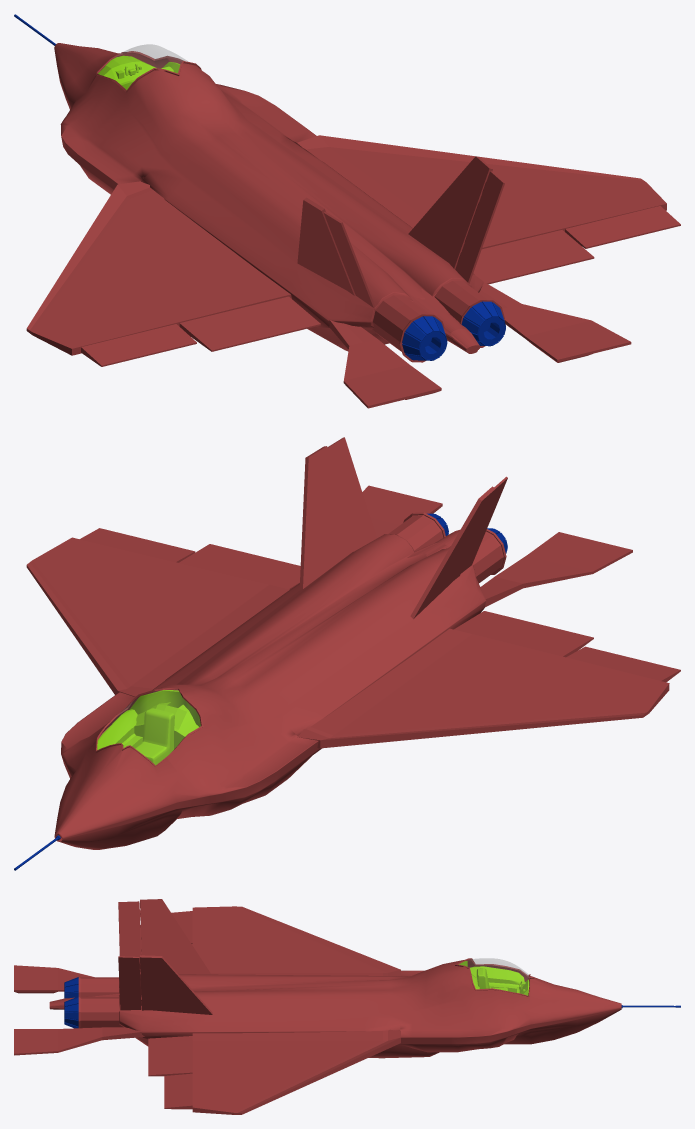
File: KaanAirplaneSepereted.fbx
3 views of the same model, one above another, from view 1: azimuth 30°, elevation 25°; view 2: azimuth 150°, elevation 25°; view 3: azimuth 270°, elevation 25° (orthographic). The views are drawn at different scales.
Parts seen in each view (by area): view 1: polySurface10, L_wing, R_wing, L_BackDecor, R_BackDecor, L_Dy_Wing1, R_Backwing, R_Dy_Wing1, L_Backwing, L_Dy_Wing2, R_Dy_Wing2, R_Dy_Backwing (+8 smaller); view 2: polySurface10, L_wing, R_wing, R_Backwing, L_BackDecor, polySurface9, L_Dy_Wing1, R_Dy_Wing1, L_Backwing, R_Dy_Backwing, R_BackDecor, L_Dy_Wing2 (+8 smaller); view 3: polySurface10, R_wing, L_wing, L_Backwing, R_Backwing, R_BackDecor, R_Dy_Wing1, polySurface9, L_BackDecor, pCylinder2, L_Dy_Backwing, R_Dy_Backwing (+5 smaller).
Boxes of the visible parts, x1=… form: polySurface10: x1=54, y1=43, x2=483, y2=351; L_wing: x1=26, y1=181, x2=291, y2=355; R_wing: x1=297, y1=135, x2=666, y2=249; L_BackDecor: x1=329, y1=320, x2=441, y2=408; R_BackDecor: x1=479, y1=282, x2=631, y2=362; L_Dy_Wing1: x1=179, y1=296, x2=320, y2=351; R_Backwing: x1=408, y1=156, x2=492, y2=268; R_Dy_Wing1: x1=473, y1=230, x2=594, y2=284; L_Backwing: x1=297, y1=197, x2=355, y2=295; L_Dy_Wing2: x1=81, y1=324, x2=196, y2=366; R_Dy_Wing2: x1=565, y1=206, x2=680, y2=248; R_Dy_Backwing: x1=455, y1=171, x2=504, y2=283; polySurface10: x1=54, y1=534, x2=486, y2=849; L_wing: x1=297, y1=628, x2=669, y2=748; R_wing: x1=26, y1=537, x2=289, y2=696; R_Backwing: x1=299, y1=446, x2=359, y2=590; L_BackDecor: x1=480, y1=532, x2=632, y2=607; polySurface9: x1=98, y1=690, x2=200, y2=764; L_Dy_Wing1: x1=454, y1=611, x2=593, y2=657; R_Dy_Wing1: x1=179, y1=544, x2=300, y2=589; L_Backwing: x1=410, y1=486, x2=495, y2=618; R_Dy_Backwing: x1=327, y1=437, x2=376, y2=548; R_BackDecor: x1=362, y1=485, x2=442, y2=538; L_Dy_Wing2: x1=566, y1=646, x2=680, y2=682; polySurface10: x1=117, y1=958, x2=621, y2=1058; R_wing: x1=192, y1=1029, x2=400, y2=1114; L_wing: x1=192, y1=906, x2=400, y2=975; L_Backwing: x1=140, y1=899, x2=210, y2=974; R_Backwing: x1=140, y1=955, x2=212, y2=1014; R_BackDecor: x1=14, y1=1027, x2=144, y2=1055; R_Dy_Wing1: x1=148, y1=1036, x2=192, y2=1076; polySurface9: x1=459, y1=958, x2=528, y2=994; L_BackDecor: x1=14, y1=965, x2=94, y2=993; pCylinder2: x1=78, y1=995, x2=123, y2=1028; L_Dy_Backwing: x1=118, y1=901, x2=141, y2=973; R_Dy_Backwing: x1=118, y1=956, x2=141, y2=1010.
Bounding box in the file's own units: 1401 × 385 × 1912.
